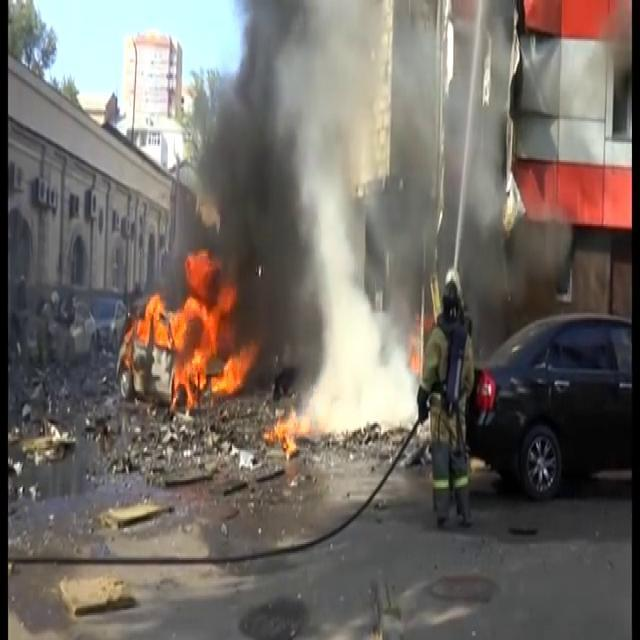Fire: (122, 259, 252, 402)
Smoke: (170, 0, 516, 400)
